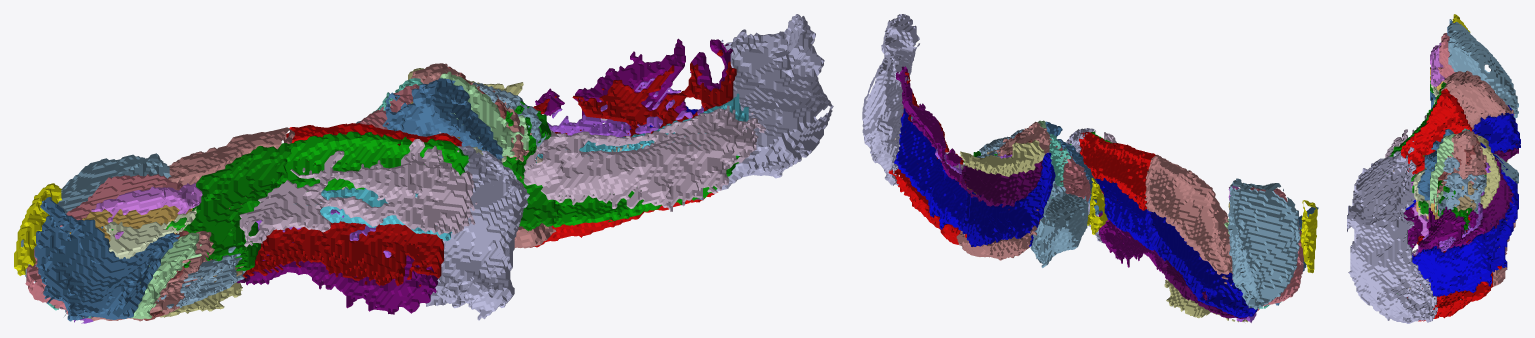
Rendered from hippoAmygLabels.glb.
The picture shows the model from 3 angles, left to right: view 1: azimuth 30°, elevation 25°; view 2: azimuth 150°, elevation 25°; view 3: azimuth 270°, elevation 25°; orthographic projection. The views are drawn at different scales.
Parts seen in each view (by area): view 1: rh - fimbria, lh - fimbria, rh - HP_tail, lh - Corticoamygdaloid-transitio, lh - HP_tail, lh - molecular_layer_HP-body, lh - CA3-head, lh - CA3-body, rh - Corticoamygdaloid-transitio, rh - molecular_layer_HP-body, lh - CA1-head, lh - presubiculum-body (+21 smaller); view 2: lh - Lateral-nucleus, lh - CA1-head, rh - HP_tail, lh - subiculum-head, rh - subiculum-body, rh - subiculum-head, lh - CA1-body, rh - Lateral-nucleus, rh - presubiculum-head, rh - CA1-head, lh - subiculum-body, rh - presubiculum-body (+13 smaller); view 3: rh - HP_tail, rh - subiculum-body, lh - HP_tail, lh - Lateral-nucleus, lh - CA1-body, lh - CA1-head, rh - presubiculum-body, rh - CA1-head, rh - subiculum-head, lh - subiculum-head, rh - GC-ML-DG-head, rh - presubiculum-head (+18 smaller).
Boxes of the visible parts, x1=… form: rh - fimbria: x1=523, y1=105, x2=765, y2=211; lh - fimbria: x1=239, y1=139, x2=477, y2=247; rh - HP_tail: x1=695, y1=14, x2=833, y2=200; lh - Corticoamygdaloid-transitio: x1=34, y1=197, x2=179, y2=321; lh - HP_tail: x1=426, y1=131, x2=529, y2=320; lh - molecular_layer_HP-body: x1=242, y1=144, x2=443, y2=286; lh - CA3-head: x1=183, y1=143, x2=292, y2=271; lh - CA3-body: x1=273, y1=131, x2=468, y2=191; rh - Corticoamygdaloid-transitio: x1=382, y1=78, x2=503, y2=161; rh - molecular_layer_HP-body: x1=533, y1=50, x2=736, y2=136; lh - CA1-head: x1=86, y1=127, x2=294, y2=321; lh - presubiculum-body: x1=246, y1=240, x2=438, y2=314; lh - Lateral-nucleus: x1=1227, y1=178, x2=1300, y2=309; lh - CA1-head: x1=1144, y1=154, x2=1259, y2=311; rh - HP_tail: x1=862, y1=14, x2=919, y2=185; lh - subiculum-head: x1=1145, y1=209, x2=1257, y2=317; rh - subiculum-body: x1=894, y1=108, x2=966, y2=230; rh - subiculum-head: x1=960, y1=152, x2=1055, y2=246; lh - CA1-body: x1=1079, y1=132, x2=1155, y2=217; rh - Lateral-nucleus: x1=1030, y1=181, x2=1088, y2=267; rh - presubiculum-head: x1=960, y1=160, x2=1042, y2=209; rh - CA1-head: x1=956, y1=121, x2=1050, y2=260; lh - subiculum-body: x1=1095, y1=178, x2=1157, y2=250; rh - presubiculum-body: x1=896, y1=66, x2=964, y2=186; rh - HP_tail: x1=1347, y1=196, x2=1437, y2=323; rh - subiculum-body: x1=1412, y1=233, x2=1491, y2=296; lh - HP_tail: x1=1353, y1=141, x2=1416, y2=225; lh - Lateral-nucleus: x1=1448, y1=22, x2=1518, y2=117; lh - CA1-body: x1=1401, y1=88, x2=1472, y2=174; lh - CA1-head: x1=1441, y1=70, x2=1514, y2=129; rh - presubiculum-body: x1=1404, y1=206, x2=1487, y2=252; rh - CA1-head: x1=1434, y1=130, x2=1516, y2=287; rh - subiculum-head: x1=1480, y1=143, x2=1518, y2=271; lh - subiculum-head: x1=1472, y1=105, x2=1520, y2=152; rh - GC-ML-DG-head: x1=1438, y1=157, x2=1486, y2=216; rh - presubiculum-head: x1=1474, y1=157, x2=1513, y2=234.
Size of the model in its own units: 91.67 by 29.33 by 28.
